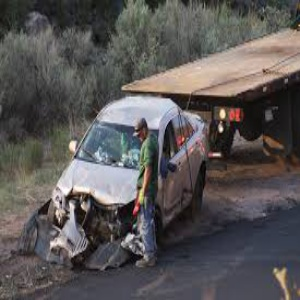bumper: (47, 204, 137, 270)
